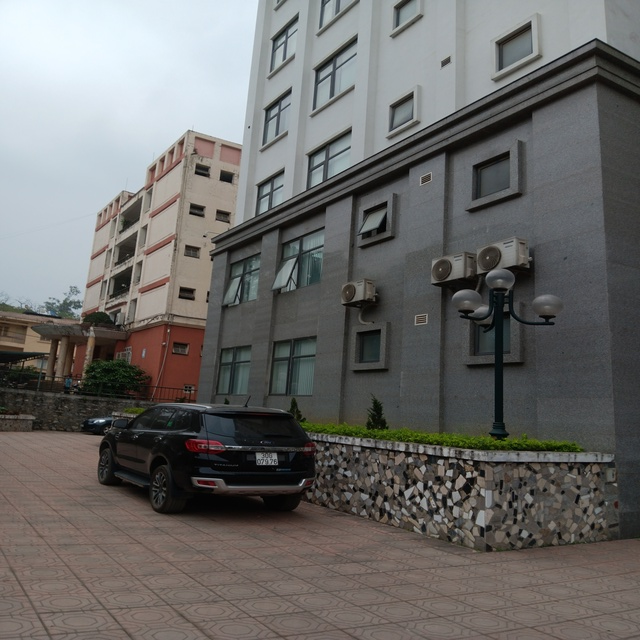cotden: (450, 266, 570, 441)
